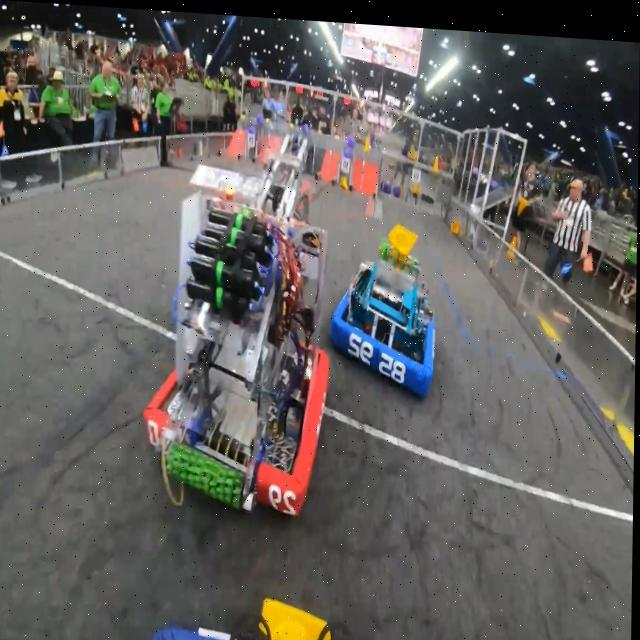robot: (142, 121, 331, 526), (329, 229, 438, 393)
